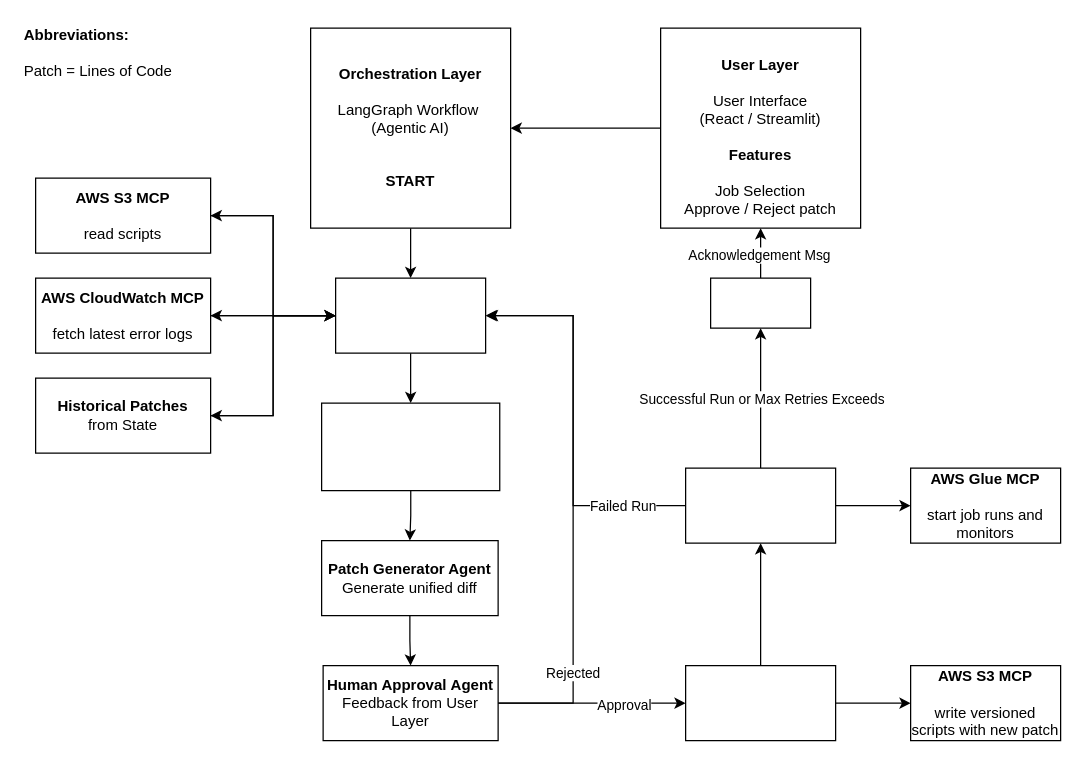
This 1083x763 diagram has some shape labels left out. The shapes that lost their labels are listed below. From the top down, each one's box as (x1, y1, x2, y2) in pixels, then its label:
(334, 277, 486, 353): Context Builder Agent MCP Helpers
(709, 277, 811, 328): STOP
(320, 402, 500, 491): RCA/Error Analyzer Agent Yields fixed Patch
(684, 467, 836, 543): Retry Runner Agent Re-run Glue job (max 3 retries)
(684, 664, 836, 741): Apply Patch Agent Create versioned script
